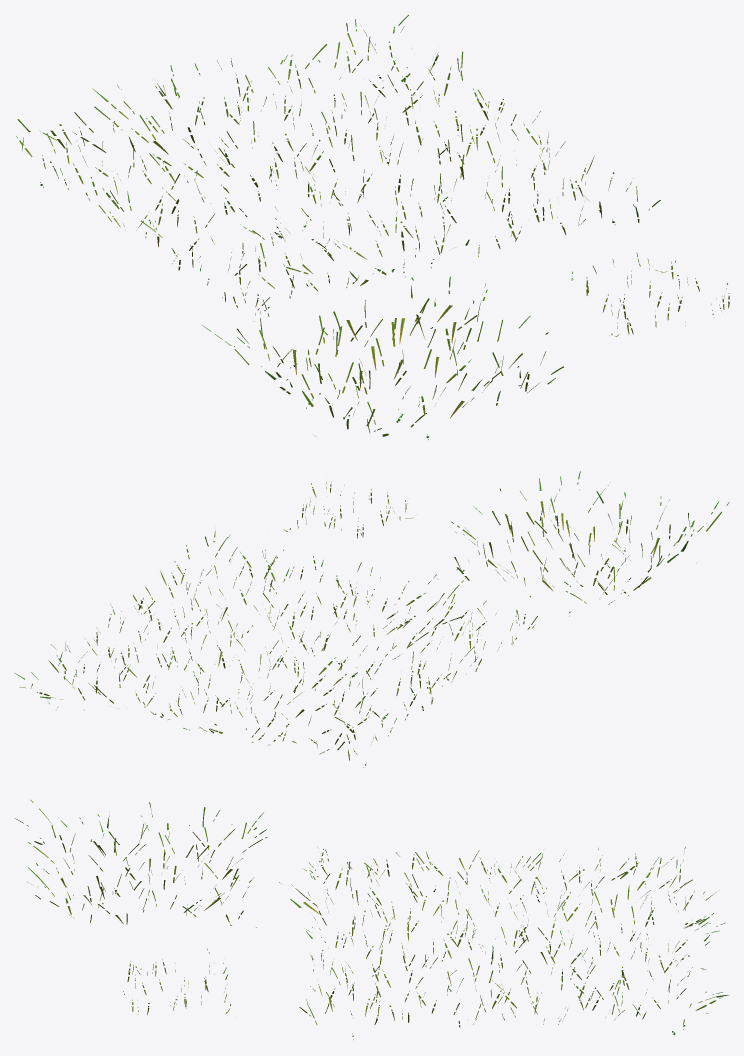
The model's file is grass-patch.glb.
The picture shows the model from 3 angles, top to bottom: view 1: azimuth 30°, elevation 25°; view 2: azimuth 150°, elevation 25°; view 3: azimuth 270°, elevation 25°; orthographic projection. The views are drawn at different scales.
Visible parts, largest first — view 1: GrassPatch; view 2: GrassPatch; view 3: GrassPatch.
Boxes of the visible parts, <box> form: GrassPatch: <box>16,14,729,439</box>; GrassPatch: <box>14,471,729,767</box>; GrassPatch: <box>15,799,728,1039</box>.
Size of the model in its own units: 1.97 by 0.2865 by 3.06.
1 material, 1 textured.
